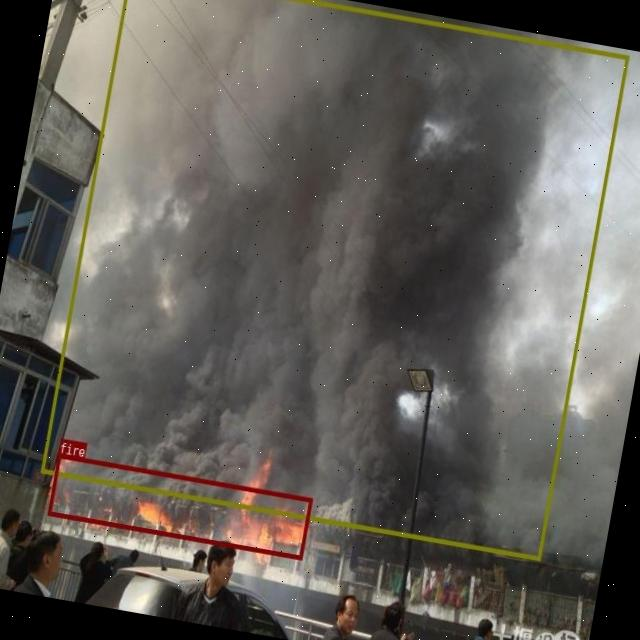fire: (47, 452, 312, 558)
smoke: (40, 0, 628, 559)
